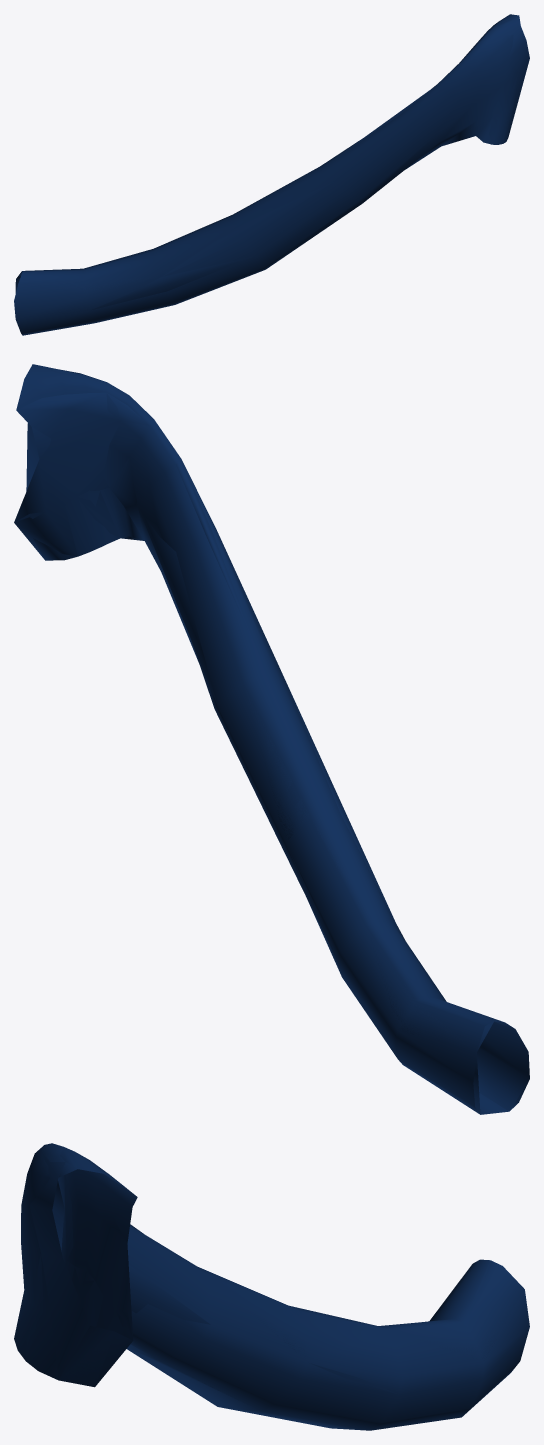
File: R vena subclavia.fbx
3 views of the same model, one above another, from view 1: azimuth 30°, elevation 25°; view 2: azimuth 150°, elevation 25°; view 3: azimuth 270°, elevation 25° (orthographic). The views are drawn at different scales.
Visible parts, largest first — view 1: R vena subclavia, R vena subclavia low; view 2: R vena subclavia, R vena subclavia low; view 3: R vena subclavia, R vena subclavia low.
Part boxes in pixels (left/top/right/bottom): R vena subclavia: left=14, top=14, right=520, bottom=335; R vena subclavia low: left=16, top=16, right=529, bottom=316; R vena subclavia: left=15, top=364, right=529, bottom=1114; R vena subclavia low: left=14, top=364, right=529, bottom=1114; R vena subclavia: left=14, top=1143, right=529, bottom=1430; R vena subclavia low: left=14, top=1147, right=523, bottom=1424.
Size of the model in its own units: 5.47 by 3.74 by 2.99.
